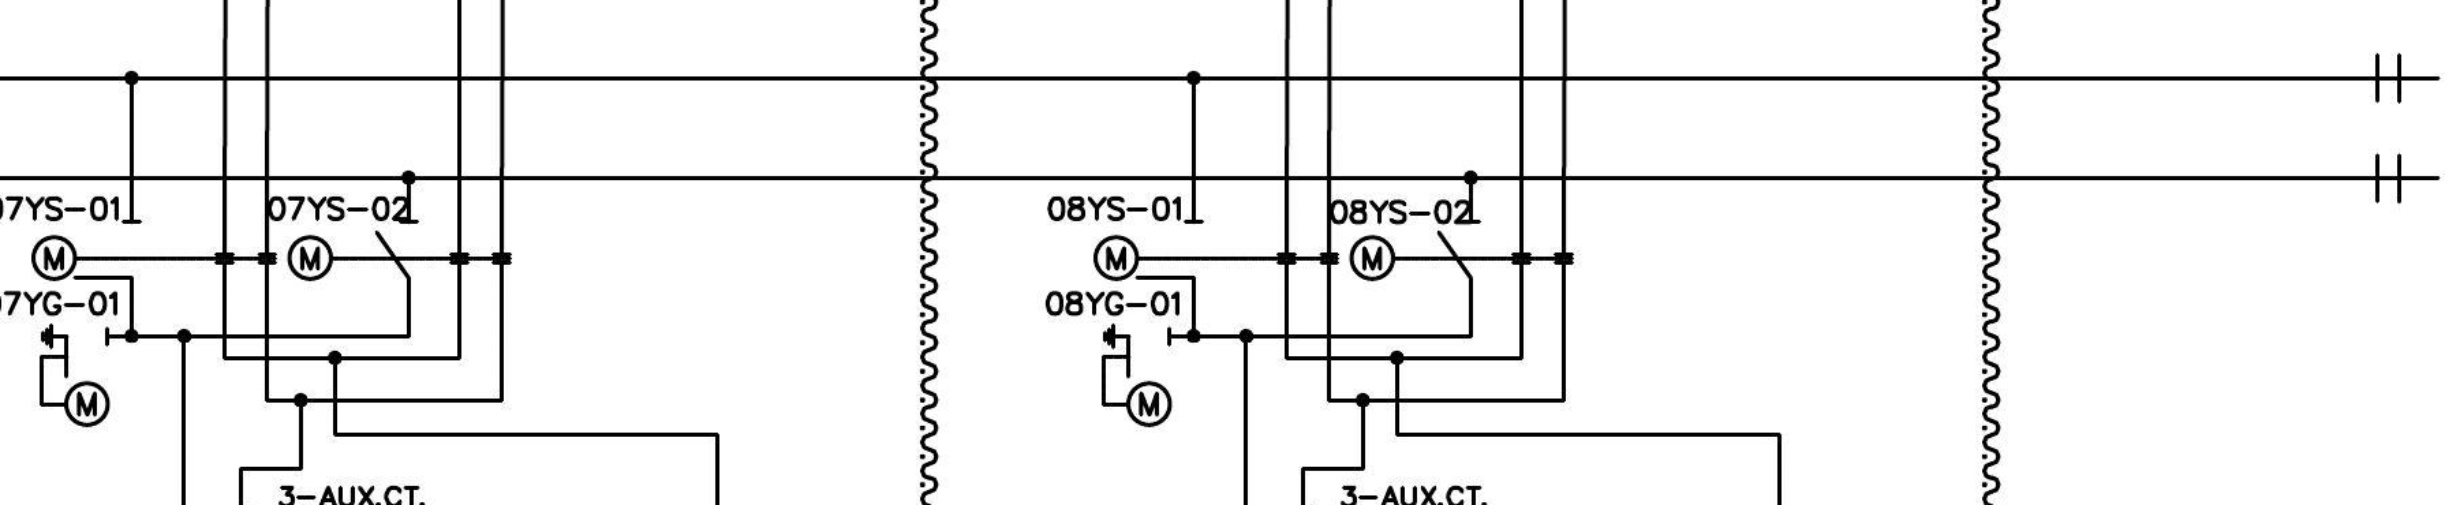115_1way_ds_w_motor: (1348, 218, 1483, 282), (287, 218, 419, 282), (30, 218, 143, 282), (1092, 218, 1205, 282)
115_buffer: (2375, 53, 2402, 104), (2375, 154, 2402, 204)
115_gs_w_motor: (38, 323, 111, 428), (1100, 323, 1174, 428)
